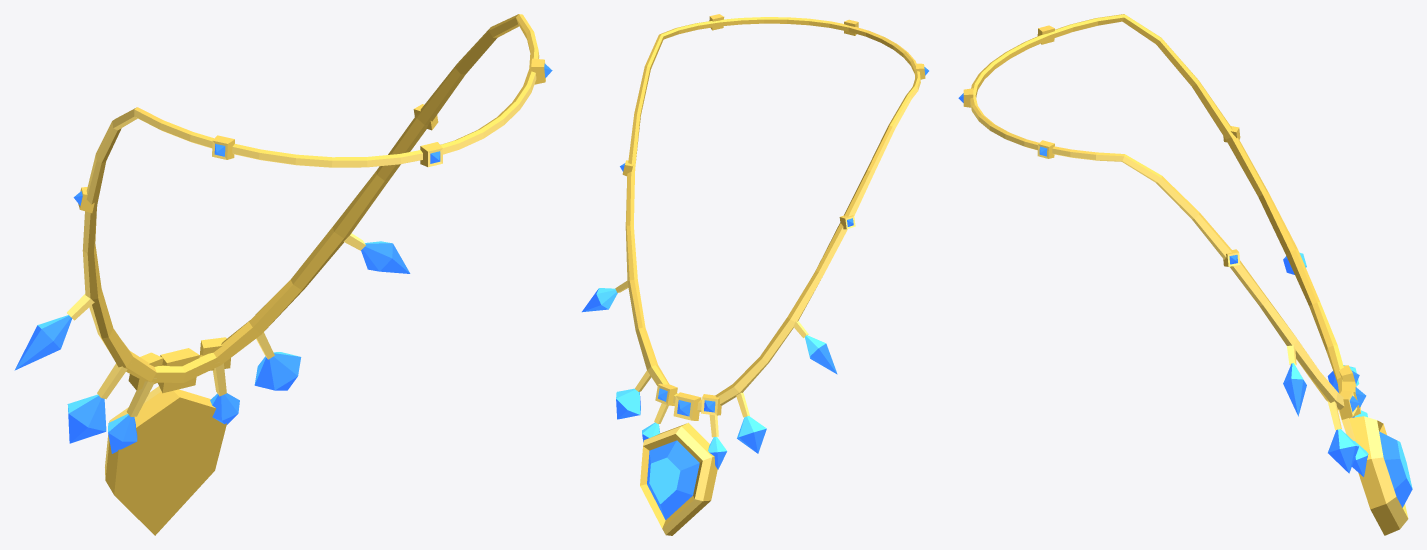
The model's file is Prototypical Amulet-CVaaizlD.glb.
The picture shows the model from 3 angles, left to right: view 1: azimuth 30°, elevation 25°; view 2: azimuth 150°, elevation 25°; view 3: azimuth 270°, elevation 25°; orthographic projection. The views are drawn at different scales.
Parts seen in each view (by area): view 1: Prototypical Amulet.001; view 2: Prototypical Amulet.001; view 3: Prototypical Amulet.001.
Part boxes in pixels (box(x1,y1,x2,y2)): Prototypical Amulet.001: box(14, 14, 552, 535); Prototypical Amulet.001: box(582, 14, 928, 535); Prototypical Amulet.001: box(958, 14, 1412, 535).
Size of the model in its own units: 0.1832 by 0.266 by 0.2425.
